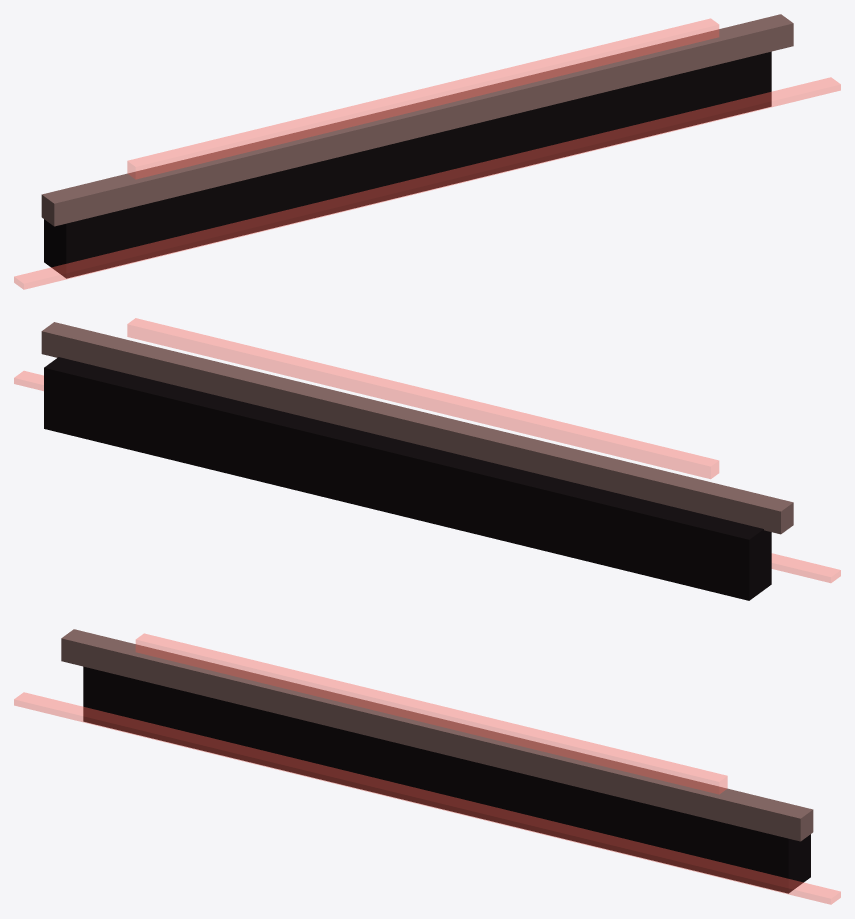
Rendered from hp_room_wall_wash_light_core.glb.
3 renders of one model, top to bottom at view 1: azimuth 30°, elevation 25°; view 2: azimuth 150°, elevation 25°; view 3: azimuth 330°, elevation 25°, orthographic.
Visible parts, largest first — view 1: core_wall_wash_mount, core_wall_wash_upper_lip, core_wall_wash_emissive_blade; view 2: core_wall_wash_mount, core_wall_wash_upper_lip, core_wall_wash_emissive_blade; view 3: core_wall_wash_mount, core_wall_wash_upper_lip, core_wall_wash_emissive_blade.
Part boxes in pixels (x1,y1,x2,y2): core_wall_wash_mount: [44, 51, 771, 278]; core_wall_wash_upper_lip: [41, 14, 793, 226]; core_wall_wash_emissive_blade: [14, 18, 840, 289]; core_wall_wash_mount: [44, 357, 771, 600]; core_wall_wash_upper_lip: [41, 322, 793, 534]; core_wall_wash_emissive_blade: [14, 318, 840, 582]; core_wall_wash_mount: [83, 666, 810, 893]; core_wall_wash_upper_lip: [61, 629, 813, 841]; core_wall_wash_emissive_blade: [14, 633, 840, 904].
Bounding box in the file's own units: 1.68 × 0.2025 × 0.1275.
